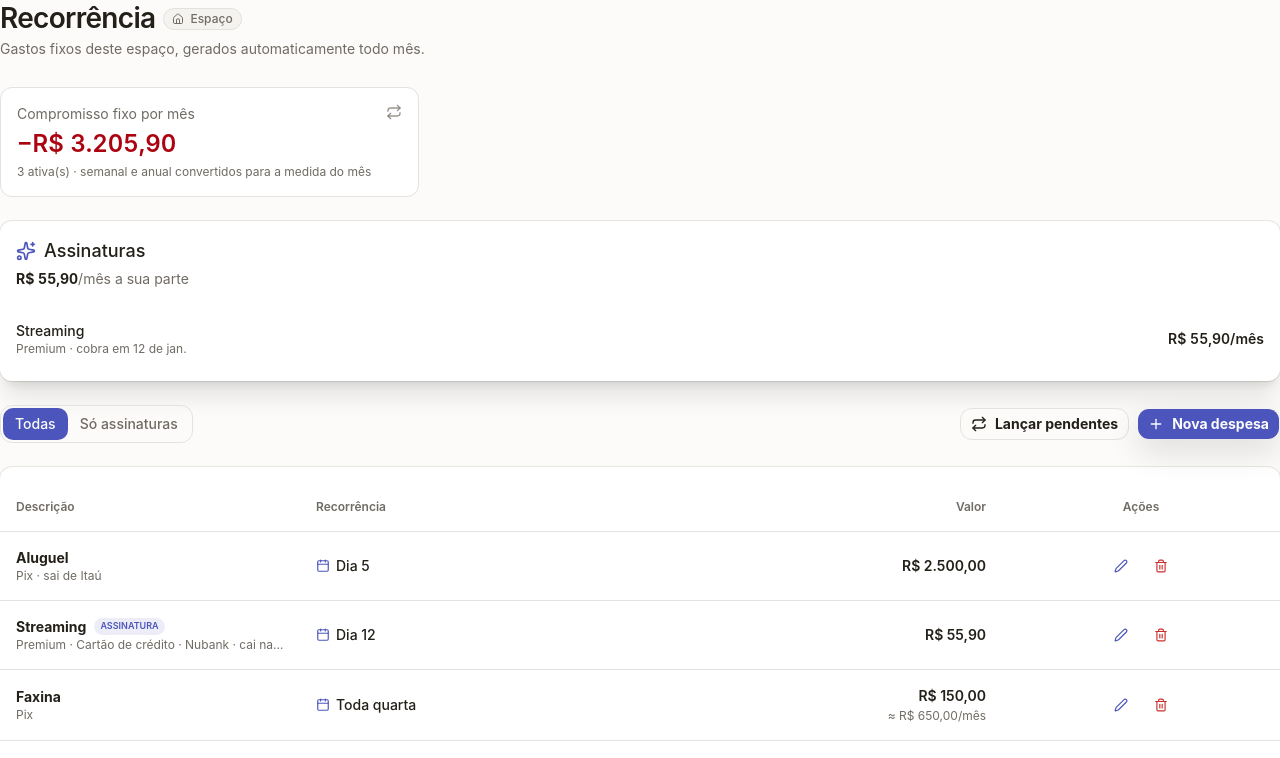
Test: Recorrência — cartão coerente › avisa e trava o salvar quando o crédito fica sem cartão
Click the button "Nova despesa". click: click(1209, 424)
box: [1137, 408, 1279, 440]
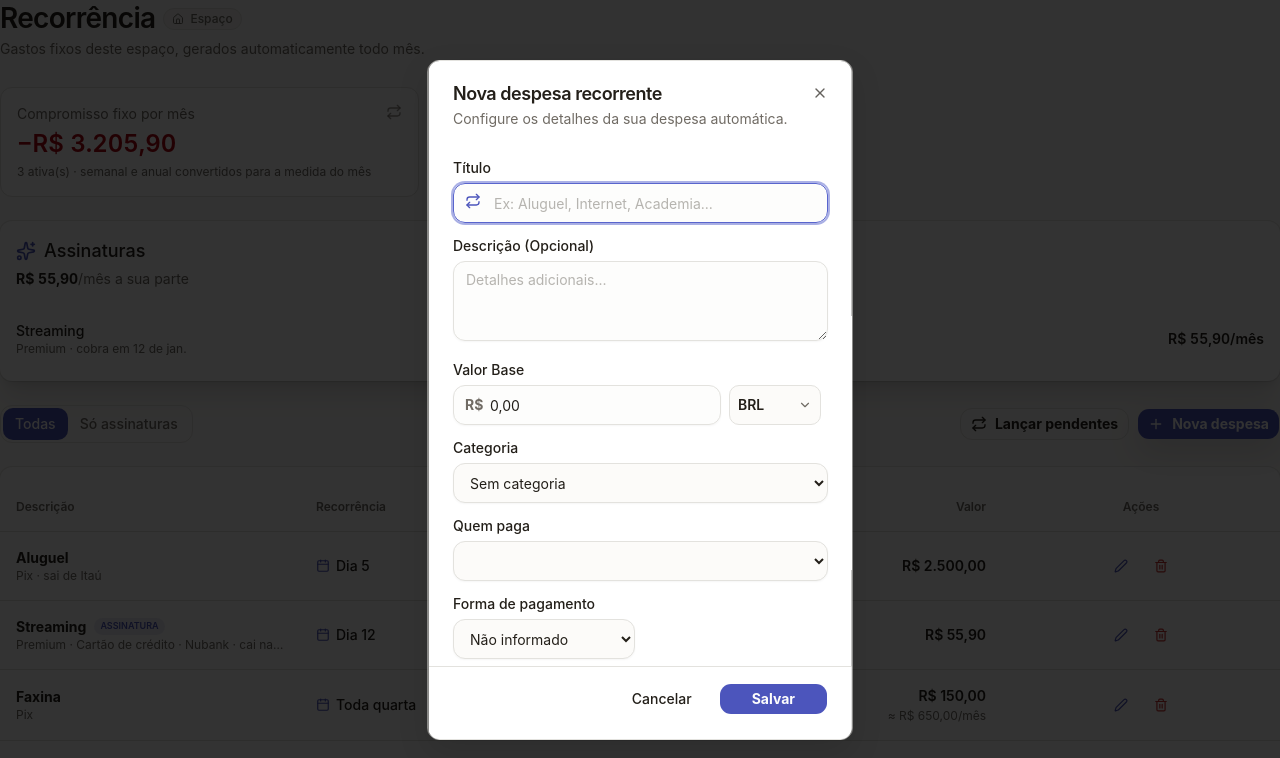
Select "Cartão de crédito" in the dropdown labelled "Forma de pagamento". click: (543, 639)
box: [452, 619, 634, 659]
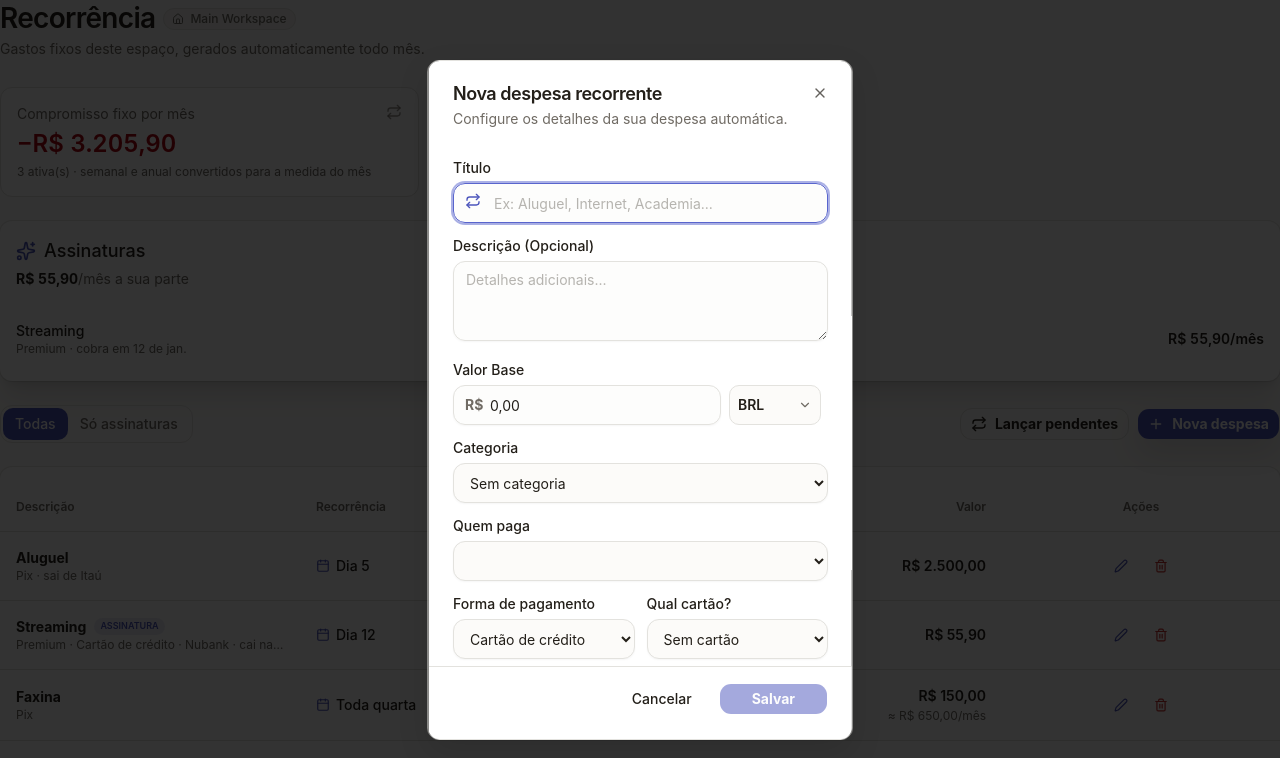
Result: the text "Escolha o cartão: a fatura dele é quem paga esta despesa." is shown at [646, 667, 828, 699]
Result: the button "Salvar" is disabled at [718, 683, 828, 715]
